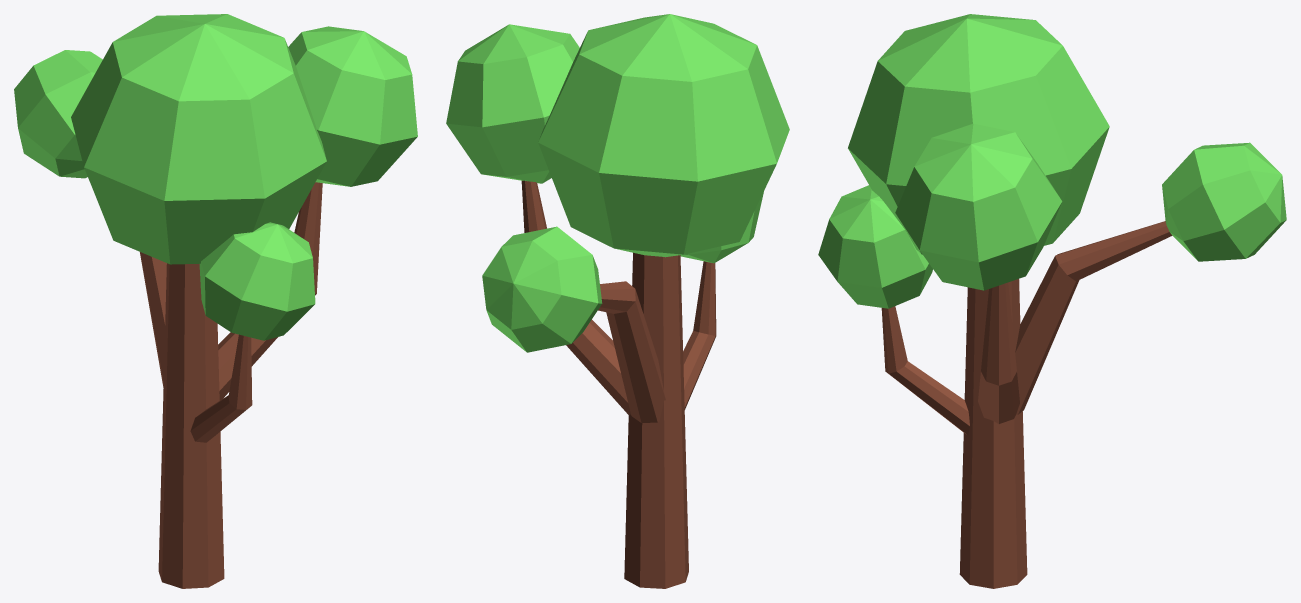
Rendered from Tree_1.0 (1).fbx.
3 renders of one model, left to right at view 1: azimuth 30°, elevation 25°; view 2: azimuth 150°, elevation 25°; view 3: azimuth 270°, elevation 25°, orthographic.
Visible parts, largest first — view 1: Circle; view 2: Circle; view 3: Circle.
Boxes of the visible parts, x1,y1,x2,y2 form: Circle: (14, 14, 417, 588); Circle: (446, 14, 789, 588); Circle: (818, 14, 1286, 588).
Size of the model in its own units: 1105 by 1817 by 1387.
